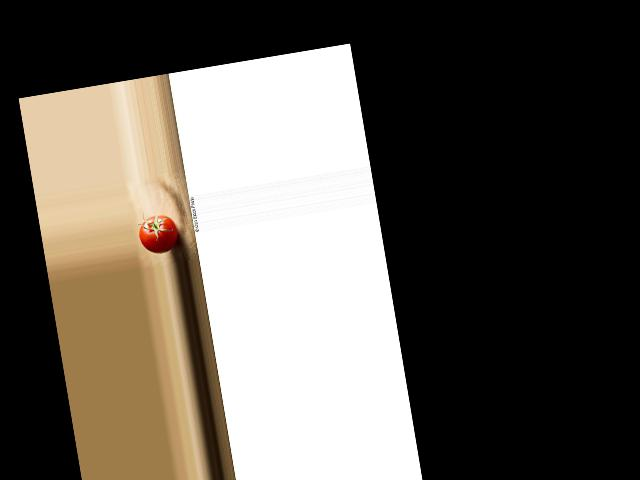tomato: (137, 211, 180, 255)
